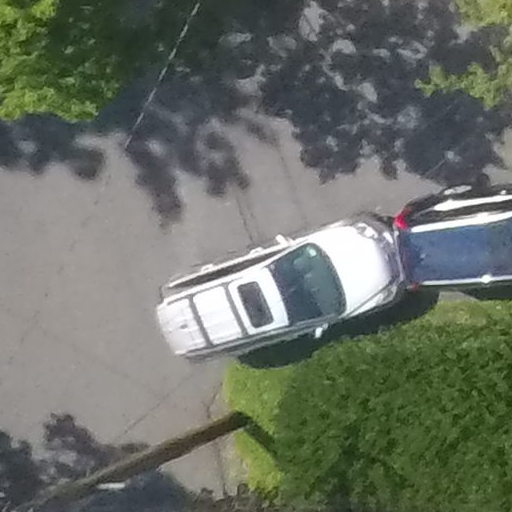car: (132, 157, 421, 364)
